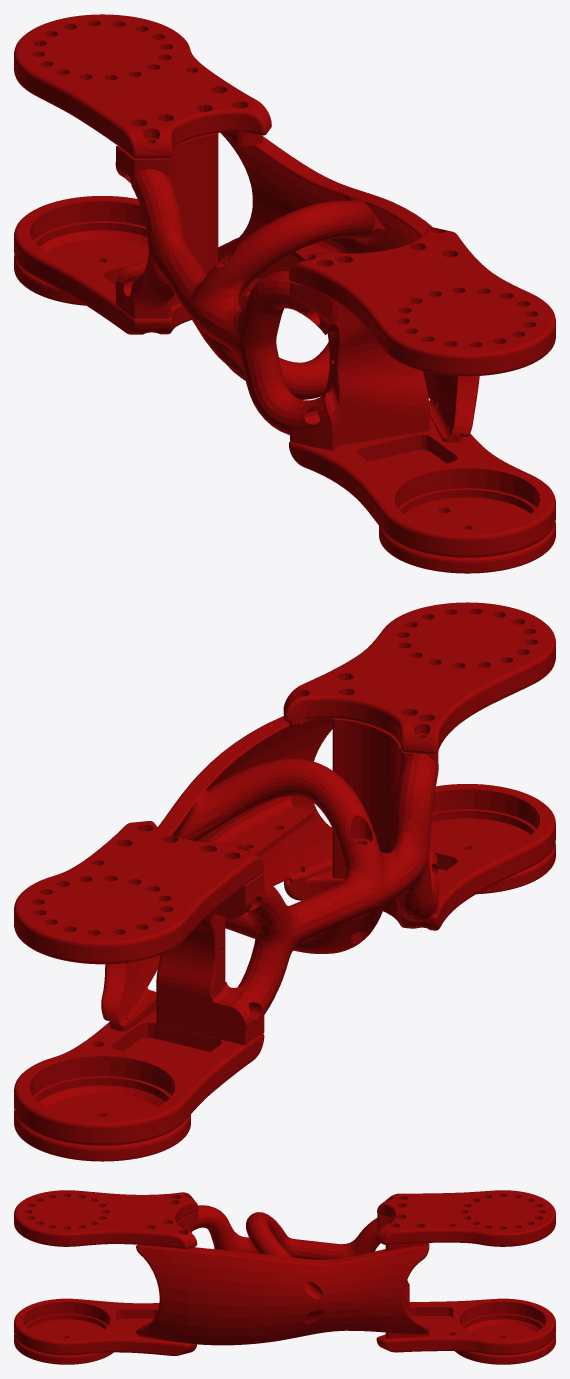
The model's file is Knee_R_Link.obj.
3 renders of one model, top to bottom at view 1: azimuth 30°, elevation 25°; view 2: azimuth 150°, elevation 25°; view 3: azimuth 270°, elevation 25°, orthographic. The views are drawn at different scales.
Parts seen in each view (by area): view 1: Knee_R_Link; view 2: Knee_R_Link; view 3: Knee_R_Link.
Boxes of the visible parts, <box> form: Knee_R_Link: <box>14,14,555,573</box>; Knee_R_Link: <box>14,602,555,1161</box>; Knee_R_Link: <box>14,1190,555,1364</box>.
Bounding box in the file's own units: 0.1192 × 0.116 × 0.4349.
